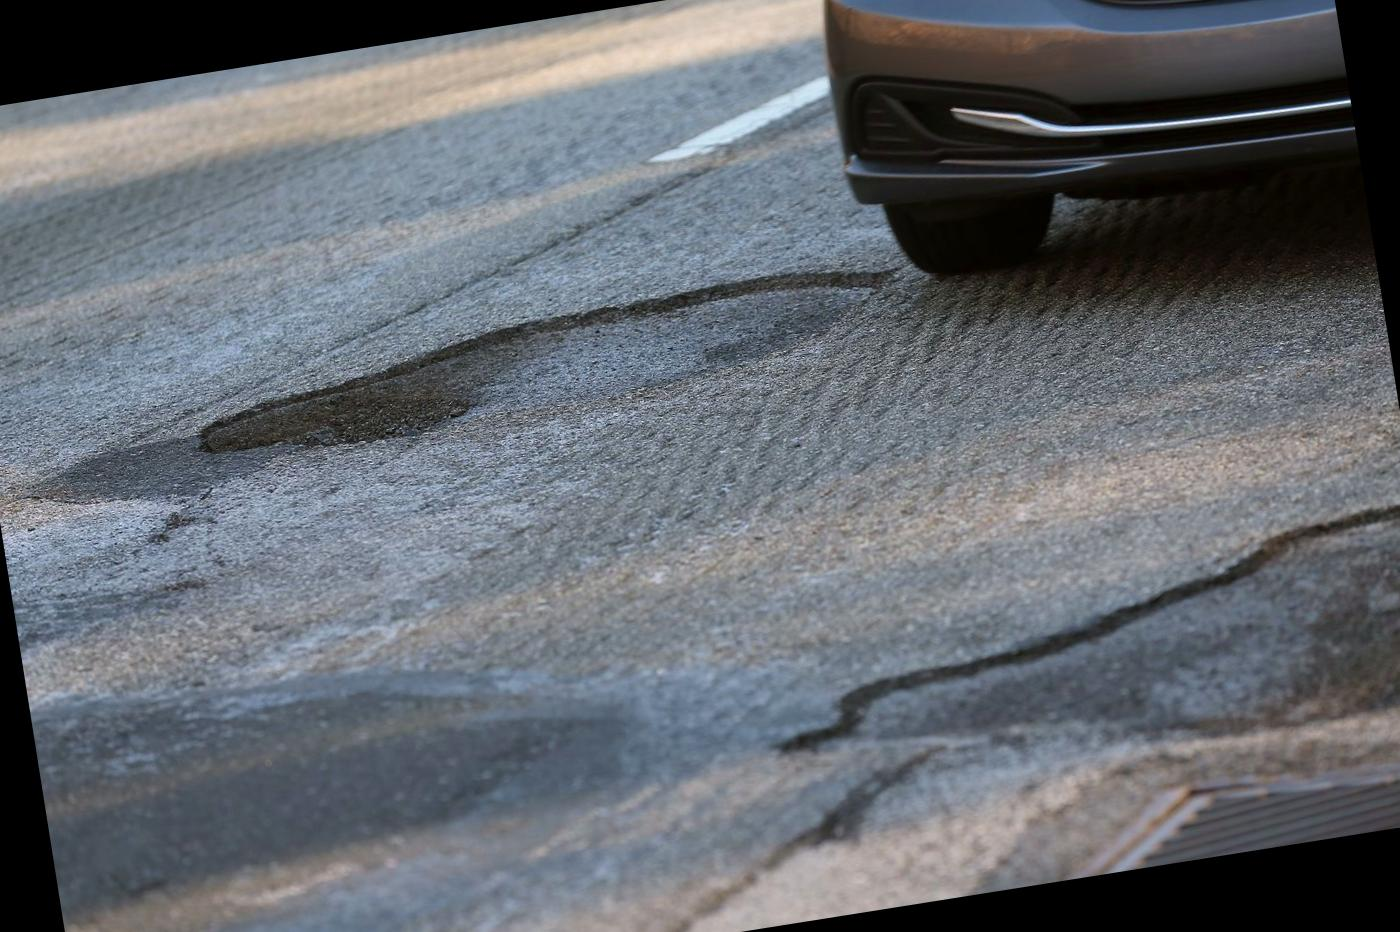pothole: (78, 214, 937, 567), (736, 475, 1400, 864)
